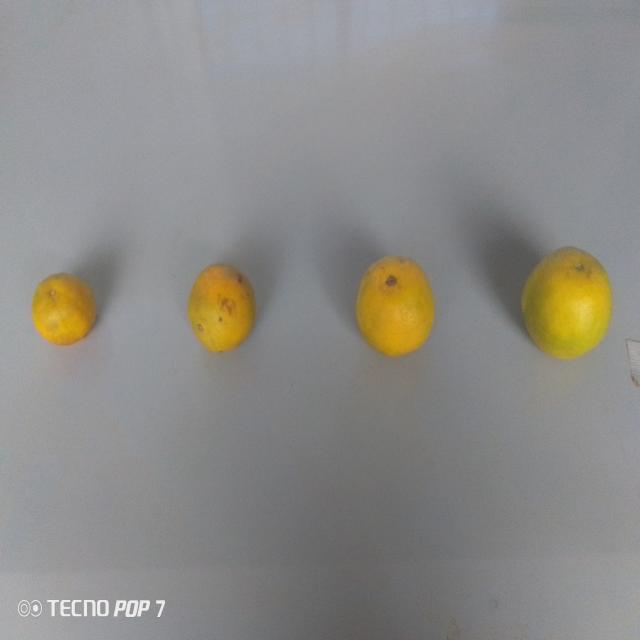Ripe orange: (522, 233, 620, 363), (352, 252, 442, 373), (182, 250, 254, 366), (25, 272, 103, 345)
